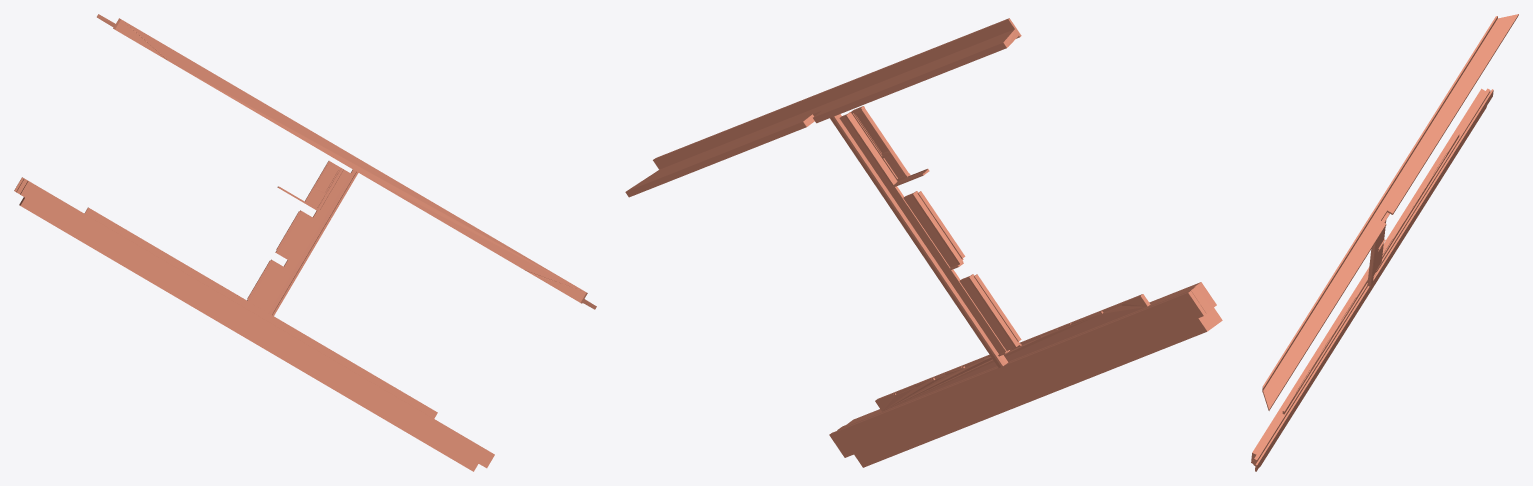
3 views of the same model, side by side, from view 1: azimuth 30°, elevation 25°; view 2: azimuth 150°, elevation 25°; view 3: azimuth 270°, elevation 25° (orthographic). The views are drawn at different scales.
Visible parts, largest first — view 1: mesh; view 2: mesh; view 3: mesh.
Boxes of the visible parts, x1,y1,x2,y2 form: mesh: (14,14,596,471); mesh: (625,18,1222,467); mesh: (1251,14,1518,471).
Bounding box in the file's own units: 27.73 × 23.54 × 15.95.
